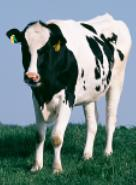cow: (5, 11, 132, 173)
